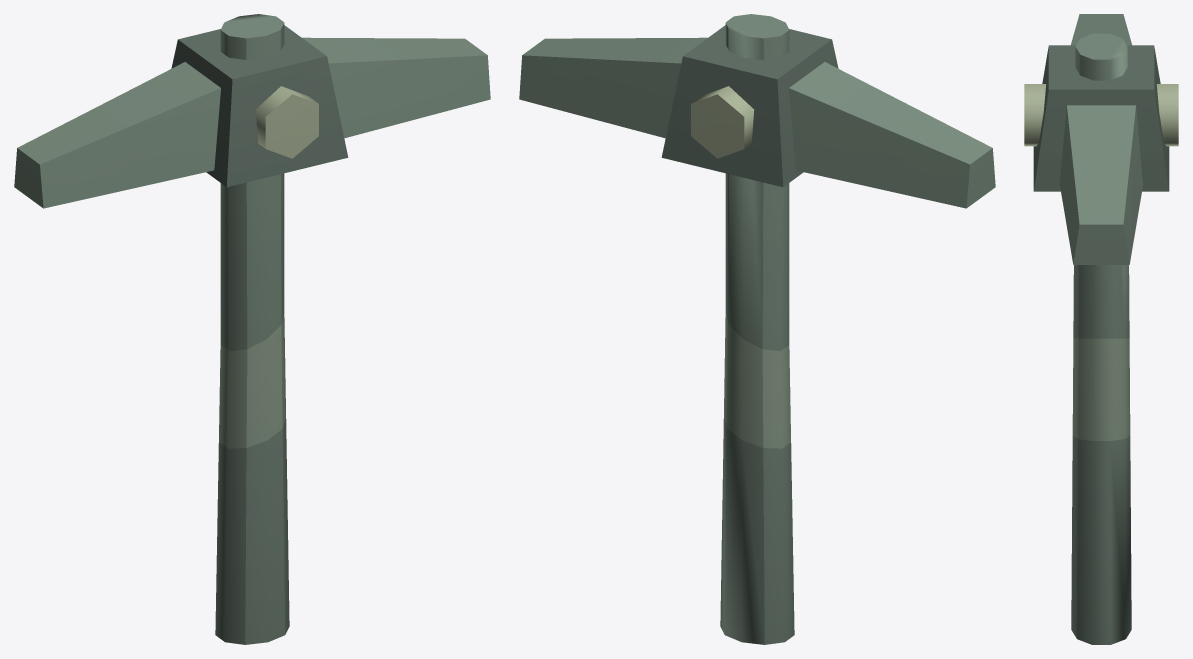
Rendered from 02_pickaxe_stone.fbx.
The picture shows the model from 3 angles, left to right: view 1: azimuth 30°, elevation 25°; view 2: azimuth 150°, elevation 25°; view 3: azimuth 270°, elevation 25°; orthographic projection. The views are drawn at different scales.
Parts seen in each view (by area): view 1: 02_pickaxe_stone; view 2: 02_pickaxe_stone; view 3: 02_pickaxe_stone.
Boxes of the visible parts, x1,y1,x2,y2 form: 02_pickaxe_stone: [14, 14, 490, 644]; 02_pickaxe_stone: [519, 14, 995, 644]; 02_pickaxe_stone: [1024, 14, 1178, 644].
Size of the model in its own units: 86.64 by 112 by 26.76.
